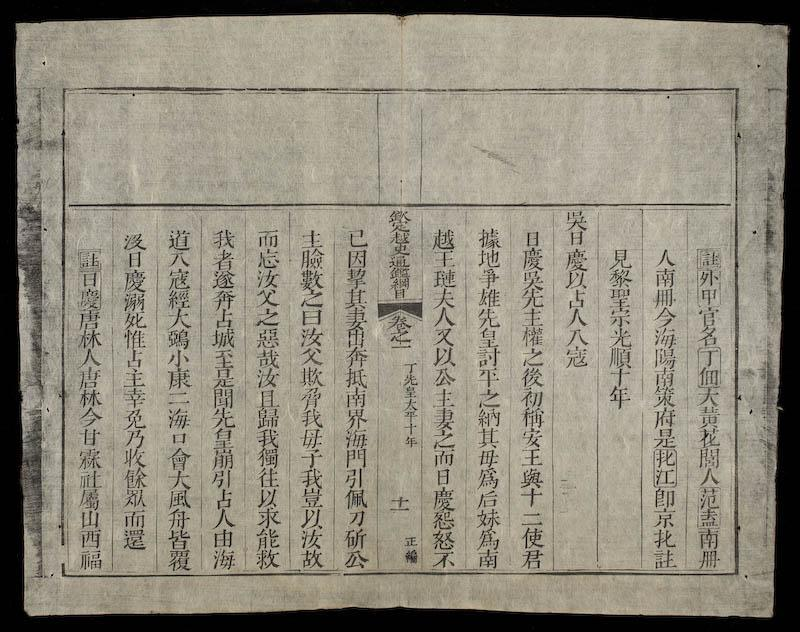c: (561, 210, 590, 238), (651, 381, 679, 407), (606, 384, 634, 409), (164, 367, 193, 391), (385, 208, 414, 232), (606, 288, 634, 312), (562, 345, 590, 369), (694, 245, 723, 268), (297, 269, 326, 292), (429, 227, 458, 250), (166, 446, 193, 470), (430, 486, 457, 510), (121, 269, 148, 293), (562, 247, 589, 271), (166, 227, 193, 251), (694, 405, 722, 428), (693, 526, 721, 549), (694, 446, 722, 469), (76, 447, 104, 470), (475, 226, 503, 249), (650, 427, 679, 449), (253, 227, 282, 249), (165, 549, 194, 571), (342, 227, 371, 249), (209, 428, 236, 451), (165, 407, 192, 430), (121, 528, 148, 551), (209, 407, 237, 429), (209, 548, 237, 570), (518, 526, 546, 548), (606, 347, 634, 369), (518, 325, 546, 347), (76, 549, 104, 571), (210, 227, 238, 249), (519, 247, 545, 270), (695, 327, 722, 349), (695, 366, 722, 388), (652, 486, 679, 508), (254, 527, 281, 549), (430, 529, 457, 551), (475, 307, 502, 329), (607, 247, 634, 269), (341, 527, 368, 549), (651, 347, 678, 369), (694, 486, 722, 507), (650, 407, 678, 428), (297, 248, 325, 269), (430, 268, 458, 289), (253, 368, 281, 389), (253, 549, 282, 569), (298, 305, 324, 327), (298, 427, 324, 449), (652, 247, 678, 269), (431, 407, 457, 429), (475, 528, 501, 550), (343, 408, 369, 430), (166, 268, 192, 290), (695, 548, 722, 569), (342, 288, 369, 309), (254, 407, 281, 428), (298, 548, 325, 569), (121, 468, 148, 489), (121, 447, 148, 468), (254, 328, 281, 349), (298, 366, 325, 387), (386, 257, 413, 278), (298, 506, 325, 527), (210, 327, 237, 348), (76, 368, 103, 389), (165, 328, 192, 349), (210, 289, 237, 310), (695, 386, 723, 406), (694, 427, 722, 447), (650, 548, 678, 568), (650, 528, 678, 548), (254, 507, 282, 527), (253, 349, 281, 369), (475, 407, 503, 427), (695, 307, 723, 327), (341, 549, 369, 569), (384, 312, 415, 330), (299, 387, 324, 409), (475, 467, 500, 489), (166, 508, 192, 529), (475, 367, 501, 388), (298, 467, 324, 488), (76, 309, 102, 330), (519, 407, 545, 428), (475, 427, 501, 448), (343, 347, 369, 368), (431, 346, 457, 367), (343, 488, 369, 509), (166, 529, 192, 550), (255, 467, 281, 488), (166, 488, 192, 509), (121, 387, 147, 408), (298, 327, 324, 348), (651, 288, 678, 308), (606, 267, 633, 287), (651, 508, 678, 528), (77, 407, 104, 427), (475, 388, 502, 408), (475, 508, 502, 528), (76, 329, 103, 349), (518, 467, 545, 487), (254, 307, 281, 327), (165, 309, 192, 329), (254, 428, 281, 448), (254, 249, 281, 269), (475, 287, 502, 307), (430, 510, 457, 530), (253, 269, 280, 289), (475, 347, 502, 367), (607, 327, 634, 347), (298, 487, 325, 507), (430, 447, 457, 467), (431, 288, 458, 308), (651, 327, 678, 347), (518, 549, 545, 569), (474, 489, 501, 509), (519, 347, 546, 367), (342, 368, 369, 388), (520, 227, 544, 249), (77, 488, 102, 509), (387, 278, 412, 299), (342, 467, 367, 488), (519, 427, 544, 448), (122, 408, 147, 429), (651, 368, 677, 388), (695, 508, 721, 528), (651, 448, 677, 468), (76, 249, 102, 269), (211, 368, 237, 388), (209, 449, 235, 469), (77, 528, 103, 548), (652, 307, 678, 327), (77, 469, 103, 489), (122, 488, 148, 508), (298, 528, 324, 548), (519, 289, 545, 309), (255, 447, 281, 467), (299, 228, 325, 248), (121, 292, 147, 312), (342, 308, 368, 328), (76, 289, 102, 309), (518, 447, 544, 467), (475, 549, 501, 569), (210, 388, 236, 408), (121, 231, 147, 251), (519, 367, 545, 387), (121, 329, 147, 349), (518, 488, 545, 507), (121, 311, 148, 330), (342, 448, 369, 467), (210, 270, 237, 289), (165, 290, 192, 309), (121, 509, 148, 528), (166, 470, 193, 489), (562, 270, 589, 289), (430, 430, 457, 449), (695, 468, 723, 486), (212, 488, 236, 509), (430, 250, 458, 268), (652, 466, 677, 486), (77, 509, 102, 529), (211, 508, 236, 528), (564, 289, 589, 309), (211, 349, 236, 369), (211, 250, 236, 270), (431, 367, 456, 387), (652, 268, 677, 288), (343, 388, 368, 408), (255, 487, 280, 507), (122, 368, 147, 388), (432, 307, 457, 327), (476, 328, 501, 348), (343, 328, 368, 348), (343, 268, 368, 288), (476, 249, 502, 268), (343, 429, 369, 448), (519, 388, 545, 407), (209, 469, 235, 488), (77, 348, 103, 367), (298, 449, 324, 468), (606, 309, 633, 327), (298, 291, 325, 309), (76, 389, 103, 407), (519, 308, 546, 326), (165, 349, 192, 367), (432, 388, 456, 408), (211, 528, 235, 548), (696, 287, 721, 306), (696, 268, 721, 287), (299, 408, 324, 427), (77, 427, 102, 446), (255, 389, 280, 408), (520, 271, 545, 290), (475, 448, 500, 467), (607, 368, 633, 386), (254, 289, 280, 307), (564, 328, 590, 346), (430, 551, 457, 568), (212, 310, 236, 329), (344, 249, 368, 268), (432, 327, 456, 346), (477, 268, 501, 287), (123, 429, 147, 448), (564, 309, 589, 327), (298, 348, 324, 365), (123, 349, 146, 368), (518, 510, 545, 526), (166, 391, 192, 407), (166, 251, 192, 267), (123, 251, 147, 268), (696, 349, 720, 366), (432, 468, 454, 486), (78, 271, 101, 288), (343, 510, 367, 526), (387, 492, 412, 507), (167, 431, 190, 445), (388, 330, 413, 342), (388, 244, 412, 256), (401, 372, 419, 387), (386, 233, 413, 243), (403, 548, 419, 564), (402, 533, 419, 548), (399, 361, 418, 373), (401, 422, 418, 435), (401, 386, 418, 399), (401, 410, 419, 422), (401, 399, 419, 411), (403, 434, 418, 448), (386, 507, 412, 512), (389, 344, 412, 349)
